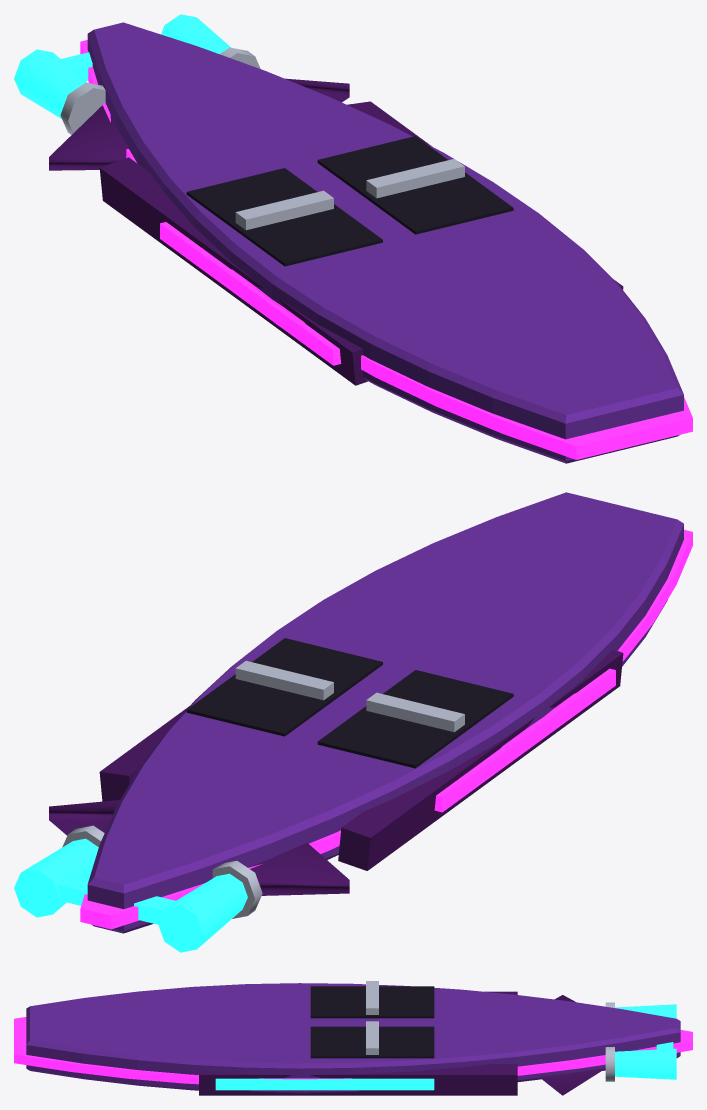
File: neon-glider.glb
3 views of the same model, one above another, from view 1: azimuth 30°, elevation 25°; view 2: azimuth 150°, elevation 25°; view 3: azimuth 270°, elevation 25° (orthographic). The views are drawn at different scales.
Visible parts, largest first — view 1: sculpted_hull, left_foot_pad, right_foot_pad, neon_rail, side_armour_-1, side_light_-1, fin_-1, thruster_-1, left_binding, right_binding, thruster_ring_-1, thruster_1 (+1 smaller); view 2: sculpted_hull, left_foot_pad, right_foot_pad, side_armour_-1, thruster_-1, side_light_-1, neon_rail, fin_-1, thruster_1, left_binding, right_binding, side_armour_1 (+3 smaller); view 3: sculpted_hull, side_armour_1, neon_rail, left_foot_pad, right_foot_pad, side_light_1, thruster_1, fin_1, thruster_-1, left_binding, right_binding, thruster_ring_1.
Part boxes in pixels (box(x1,y1,x2,y2)): sculpted_hull: box(87, 22, 683, 463); left_foot_pad: box(186, 168, 382, 266); right_foot_pad: box(317, 136, 513, 234); neon_rail: box(80, 40, 692, 459); side_armour_-1: box(99, 157, 367, 385); side_light_-1: box(160, 222, 341, 365); fin_-1: box(49, 105, 128, 170); thruster_-1: box(14, 49, 87, 118); left_binding: box(235, 190, 333, 230); right_binding: box(366, 158, 464, 198); thruster_ring_-1: box(60, 82, 105, 134); thruster_1: box(161, 14, 230, 53); sculpted_hull: box(87, 492, 683, 933); left_foot_pad: box(317, 670, 513, 768); right_foot_pad: box(186, 638, 382, 736); side_armour_-1: box(338, 649, 623, 870); thruster_-1: box(158, 873, 247, 952); side_light_-1: box(434, 668, 615, 812); neon_rail: box(80, 530, 692, 929); fin_-1: box(247, 843, 349, 895); thruster_1: box(14, 838, 98, 917); left_binding: box(366, 692, 464, 732); right_binding: box(235, 661, 333, 700); side_armour_1: box(99, 706, 189, 801); sculpted_hull: box(26, 983, 680, 1093); side_armour_1: box(199, 1064, 517, 1095); neon_rail: box(14, 1017, 692, 1084); left_foot_pad: box(310, 986, 434, 1018); right_foot_pad: box(310, 1026, 434, 1058); side_light_1: box(215, 1078, 434, 1090); thruster_1: box(615, 1048, 676, 1079); fin_1: box(539, 1068, 605, 1095); thruster_-1: box(615, 1004, 676, 1018); left_binding: box(366, 981, 378, 1014); right_binding: box(366, 1021, 378, 1054); thruster_ring_1: box(605, 1046, 614, 1081).
Bounding box in the file's own units: 0.92 × 0.2045 × 2.86.
